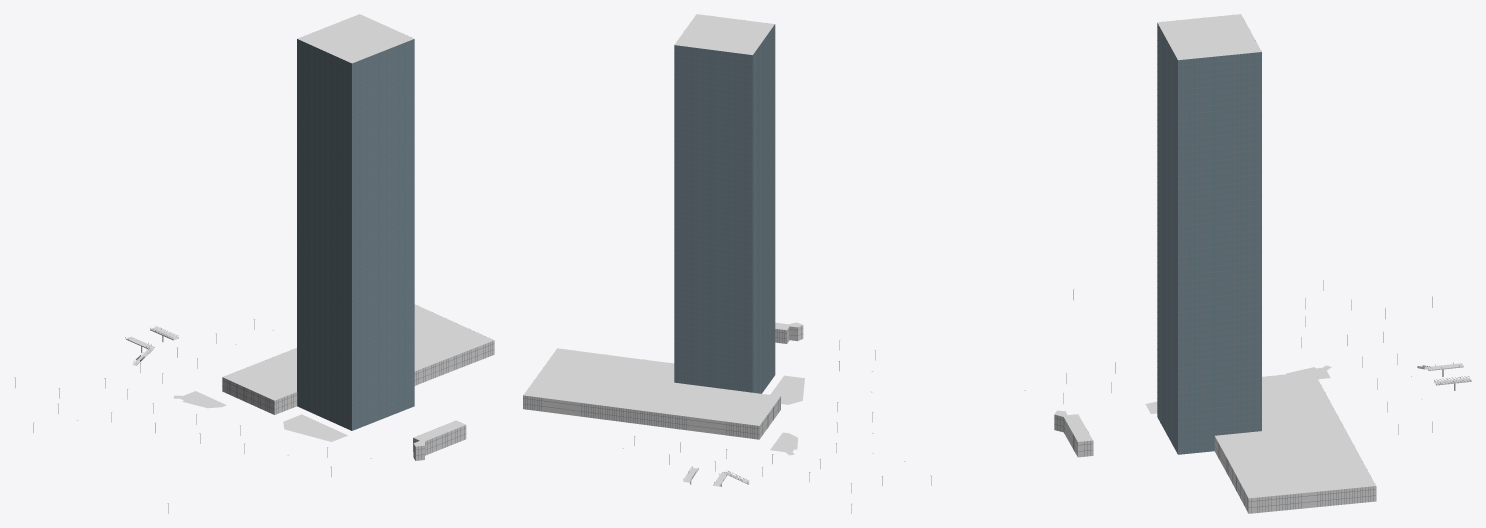
The picture shows the model from 3 angles, left to right: view 1: azimuth 30°, elevation 25°; view 2: azimuth 150°, elevation 25°; view 3: azimuth 270°, elevation 25°; orthographic projection. The views are drawn at different scales.
Visible parts, largest first — view 1: 3_0_超高层蓝灰幕墙, 3_0_城市金属细框, 3_0_v02 深灰屋面, 3_0_v02 米白石材, 3_0_v02 草地; view 2: 3_0_超高层蓝灰幕墙, 3_0_城市金属细框, 3_0_v02 深灰屋面, 3_0_v02 米白石材, 3_0_v02 草地; view 3: 3_0_超高层蓝灰幕墙, 3_0_城市金属细框, 3_0_v02 深灰屋面, 3_0_v02 米白石材.
Part boxes in pixels (bbox=[...]): 3_0_超高层蓝灰幕墙: bbox=[297, 39, 414, 430]; 3_0_城市金属细框: bbox=[222, 40, 494, 460]; 3_0_v02 深灰屋面: bbox=[222, 14, 493, 446]; 3_0_v02 米白石材: bbox=[222, 340, 494, 460]; 3_0_v02 草地: bbox=[173, 391, 347, 441]; 3_0_超高层蓝灰幕墙: bbox=[674, 24, 774, 393]; 3_0_城市金属细框: bbox=[523, 24, 802, 439]; 3_0_v02 深灰屋面: bbox=[523, 14, 802, 425]; 3_0_v02 米白石材: bbox=[523, 325, 803, 439]; 3_0_v02 草地: bbox=[770, 375, 804, 455]; 3_0_超高层蓝灰幕墙: bbox=[1157, 23, 1261, 454]; 3_0_城市金属细框: bbox=[1054, 28, 1376, 513]; 3_0_v02 深灰屋面: bbox=[1054, 14, 1375, 498]; 3_0_v02 米白石材: bbox=[1054, 414, 1375, 513].
Size of the model in its own units: 310 by 256 by 245.
